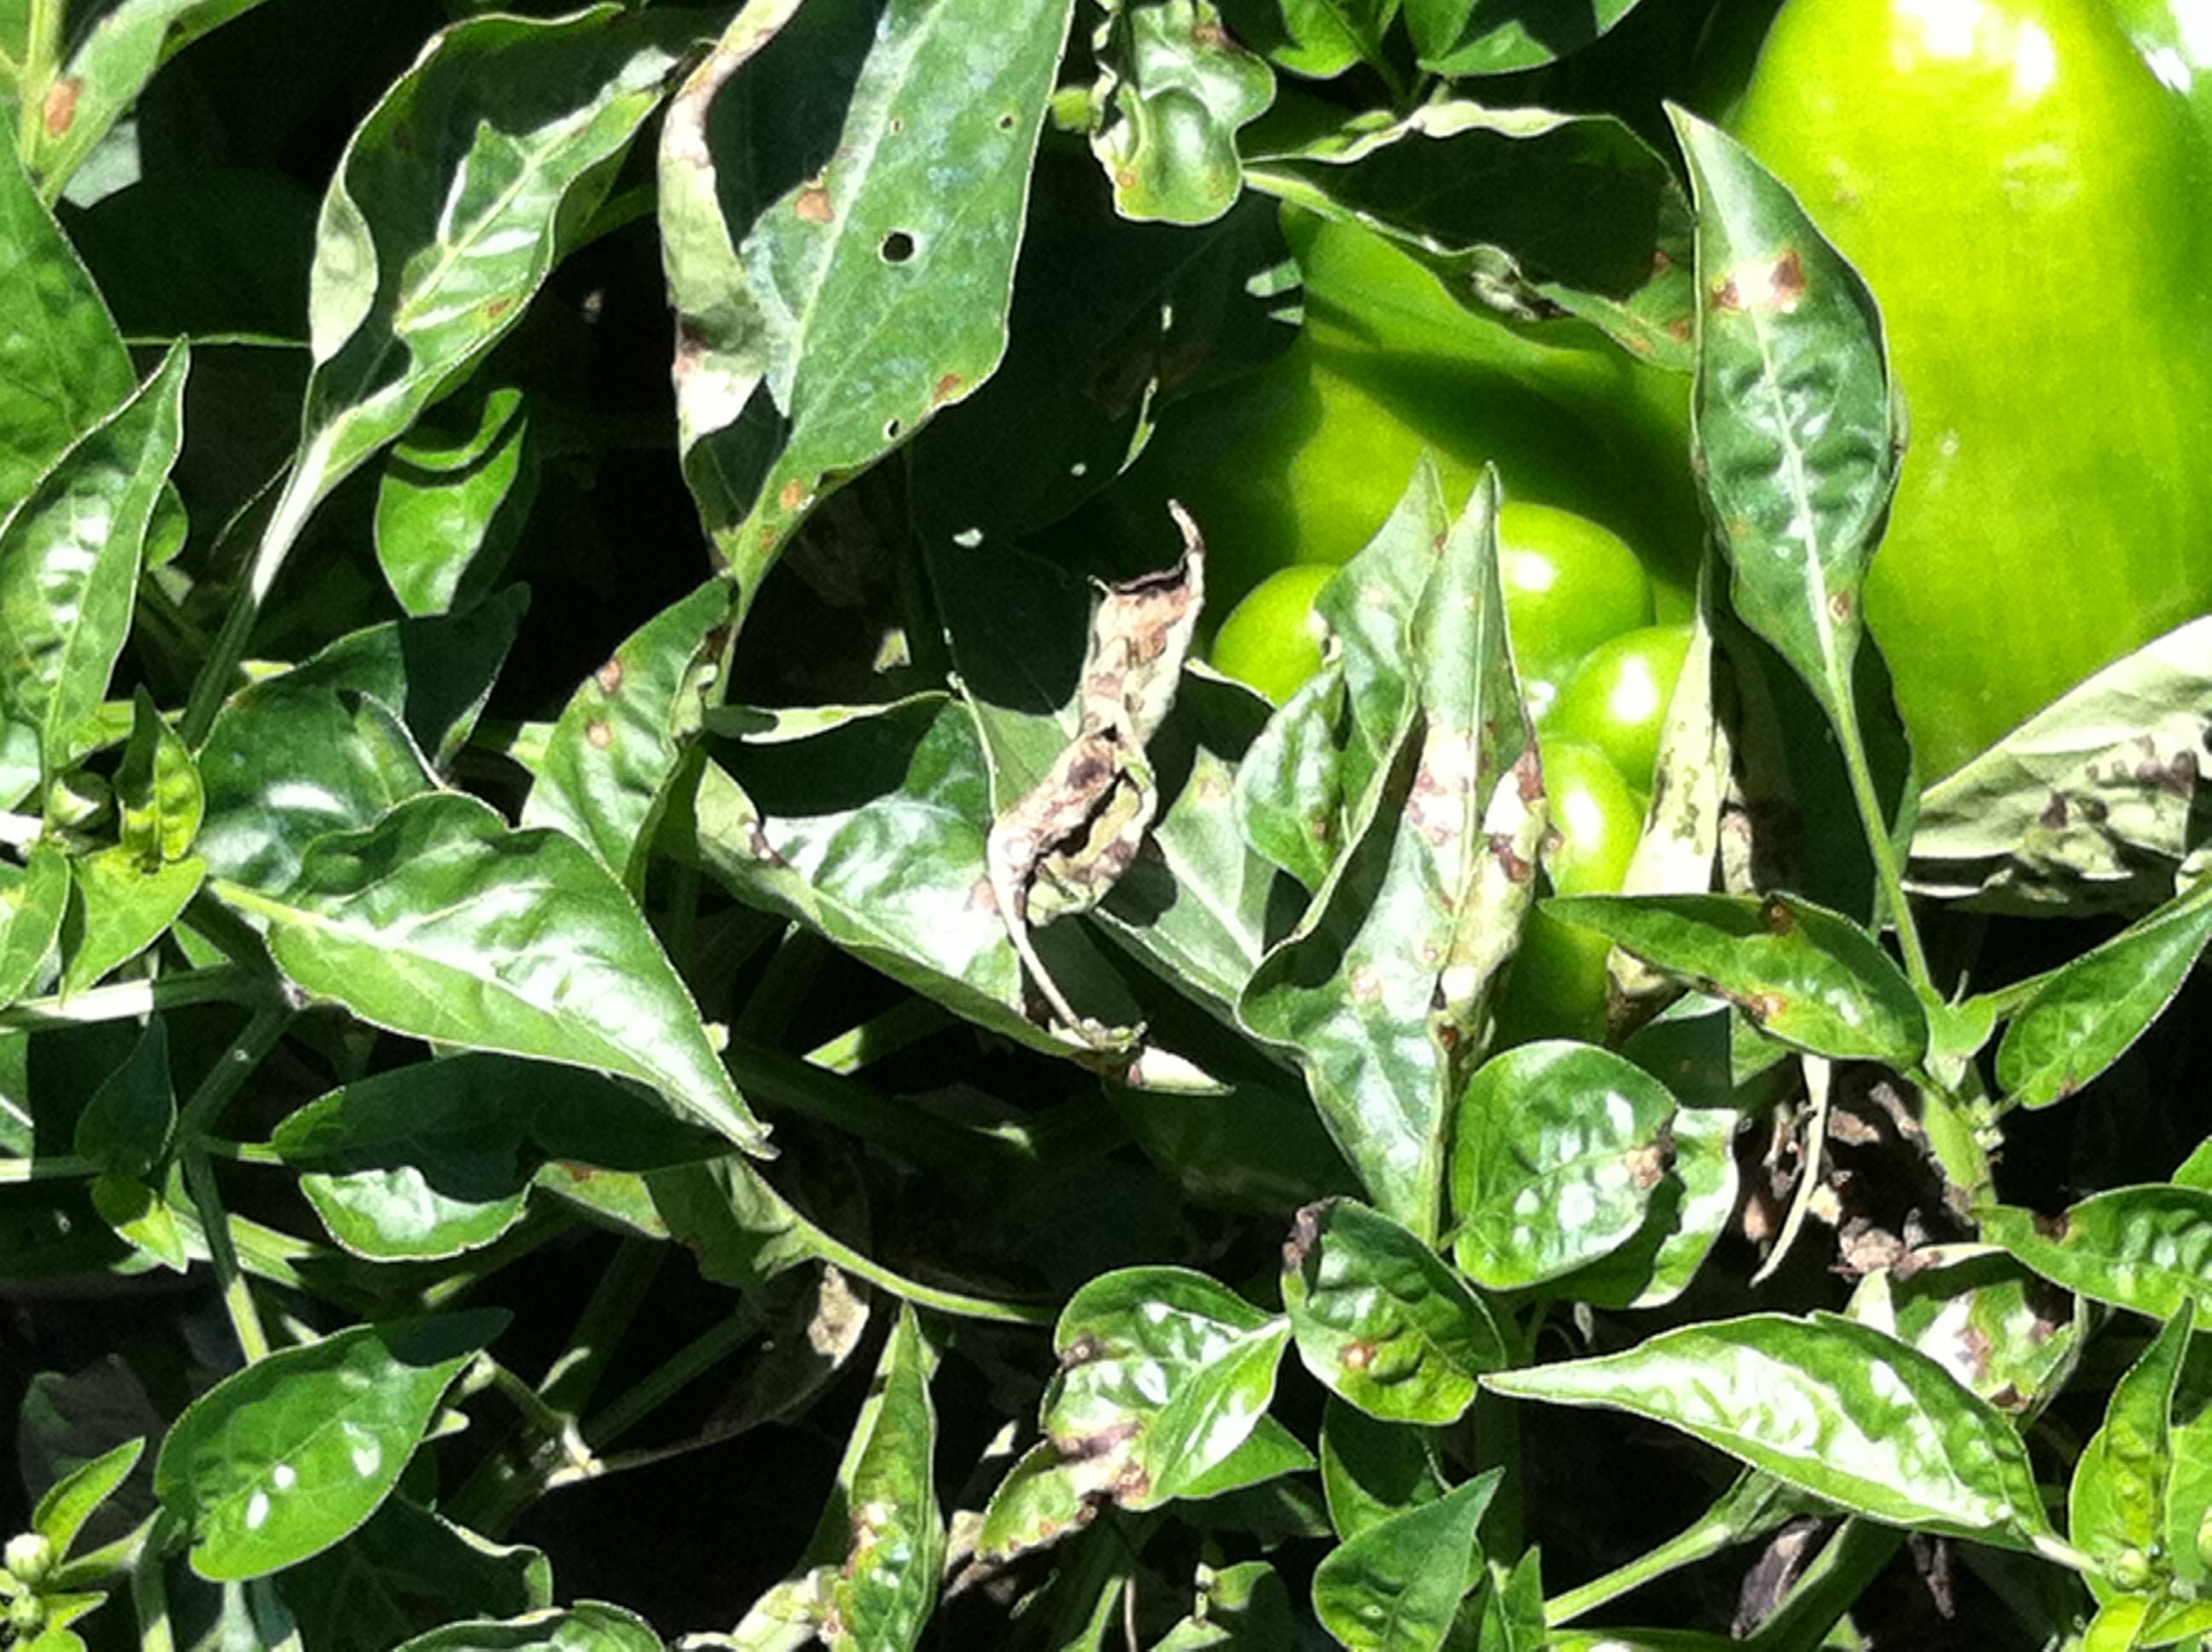Bell_pepper leaf: (883, 5, 1457, 501), (1681, 347, 2134, 899), (363, 10, 866, 418), (1293, 373, 1653, 753), (1303, 930, 1705, 1170), (666, 430, 1022, 694), (1057, 960, 1296, 1234), (1704, 878, 2021, 1065), (1921, 776, 2212, 965), (1457, 0, 1726, 182), (2084, 644, 2212, 814)
